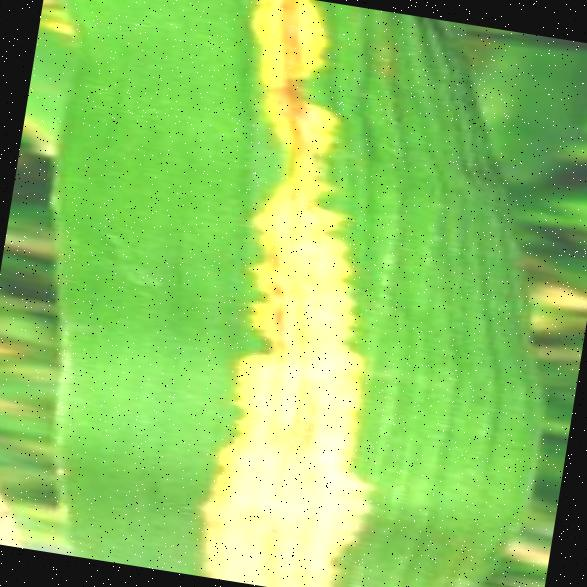Bacteria_Leaf_Blight: (17, 0, 516, 587)
